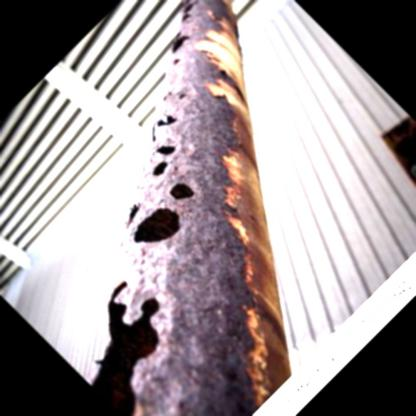burst: (91, 281, 194, 402), (118, 196, 202, 254), (145, 143, 181, 180)
